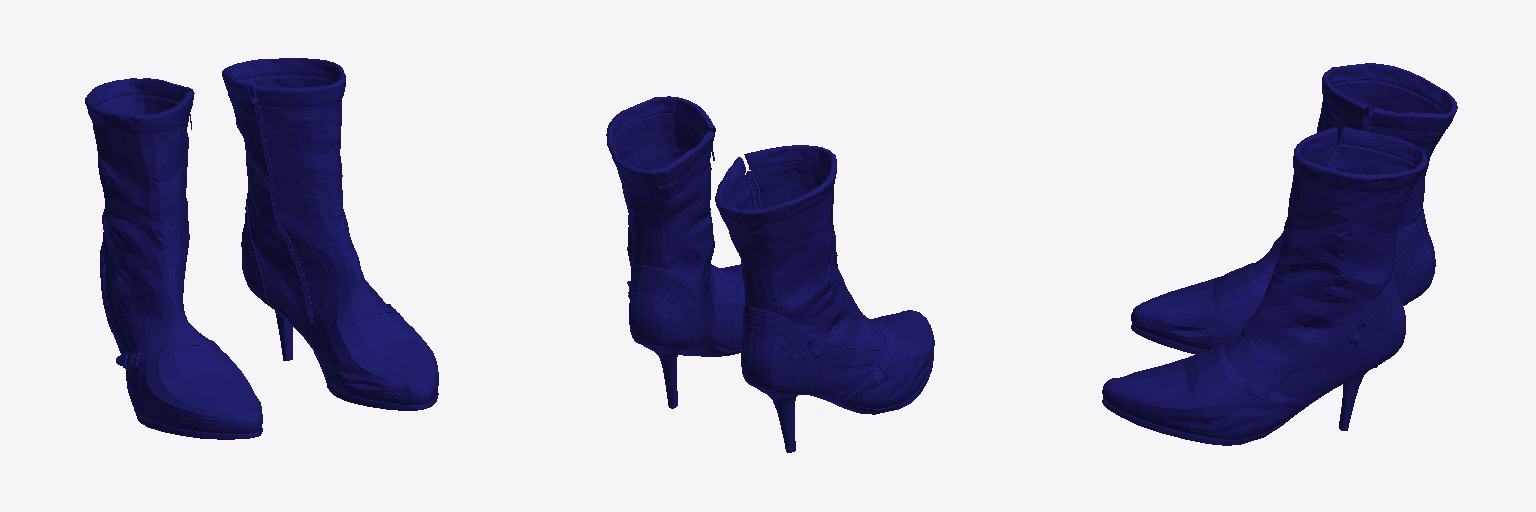
The model's file is gaotong3.obj.
3 views of the same model, side by side, from view 1: azimuth 30°, elevation 25°; view 2: azimuth 150°, elevation 25°; view 3: azimuth 270°, elevation 25° (orthographic).
Parts seen in each view (by area): view 1: file.001; view 2: file.001; view 3: file.001.
Part boxes in pixels (x1,y1,x2,y2): file.001: (85, 58, 438, 439); file.001: (606, 96, 934, 452); file.001: (1102, 63, 1457, 445).
Bounding box in the file's own units: 3.4 × 3.58 × 3.98.